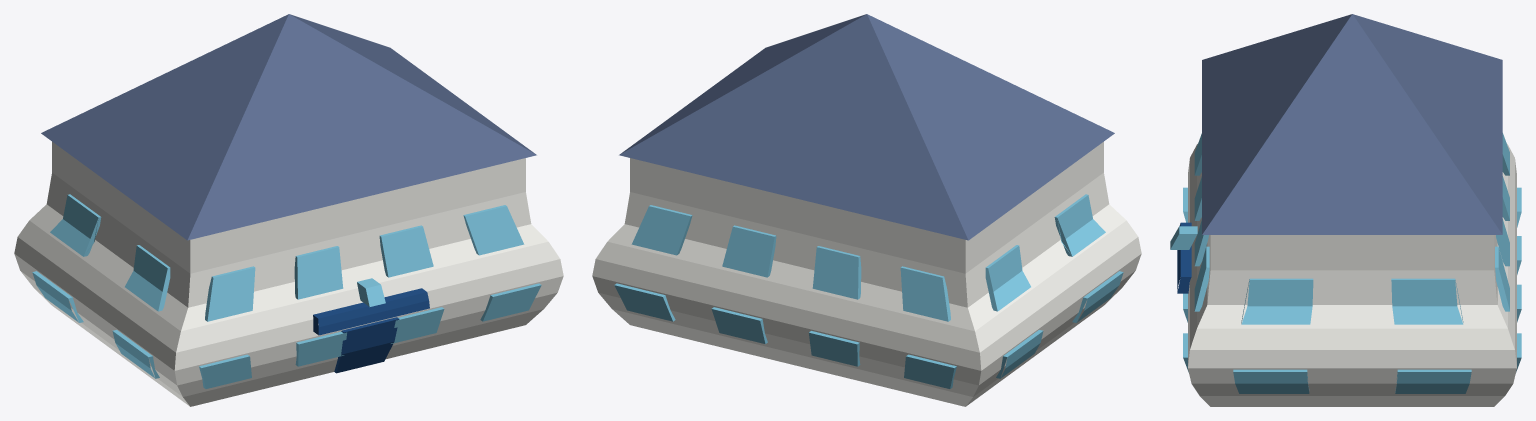
Rendered from police_station.glb.
3 renders of one model, left to right at view 1: azimuth 30°, elevation 25°; view 2: azimuth 150°, elevation 25°; view 3: azimuth 270°, elevation 25°, orthographic. The views are drawn at different scales.
Visible parts, largest first — view 1: police_station_offwhite, police_station_roof_slate, police_station_window, police_station_garda_blue; view 2: police_station_offwhite, police_station_roof_slate, police_station_window; view 3: police_station_roof_slate, police_station_offwhite, police_station_window, police_station_garda_blue.
Part boxes in pixels (left/top/right/bottom): police_station_offwhite: left=14, top=142, right=563, bottom=406; police_station_roof_slate: left=41, top=14, right=536, bottom=240; police_station_window: left=32, top=194, right=541, bottom=388; police_station_garda_blue: left=313, top=288, right=429, bottom=373; police_station_offwhite: left=592, top=142, right=1141, bottom=406; police_station_roof_slate: left=619, top=14, right=1114, bottom=240; police_station_window: left=614, top=194, right=1123, bottom=388; police_station_roof_slate: left=1202, top=14, right=1502, bottom=234; police_station_offwhite: left=1188, top=144, right=1516, bottom=406; police_station_window: left=1170, top=133, right=1521, bottom=393; police_station_garda_blue: left=1177, top=222, right=1191, bottom=293.
Size of the model in its own units: 17.24 by 12.5 by 12.89.
